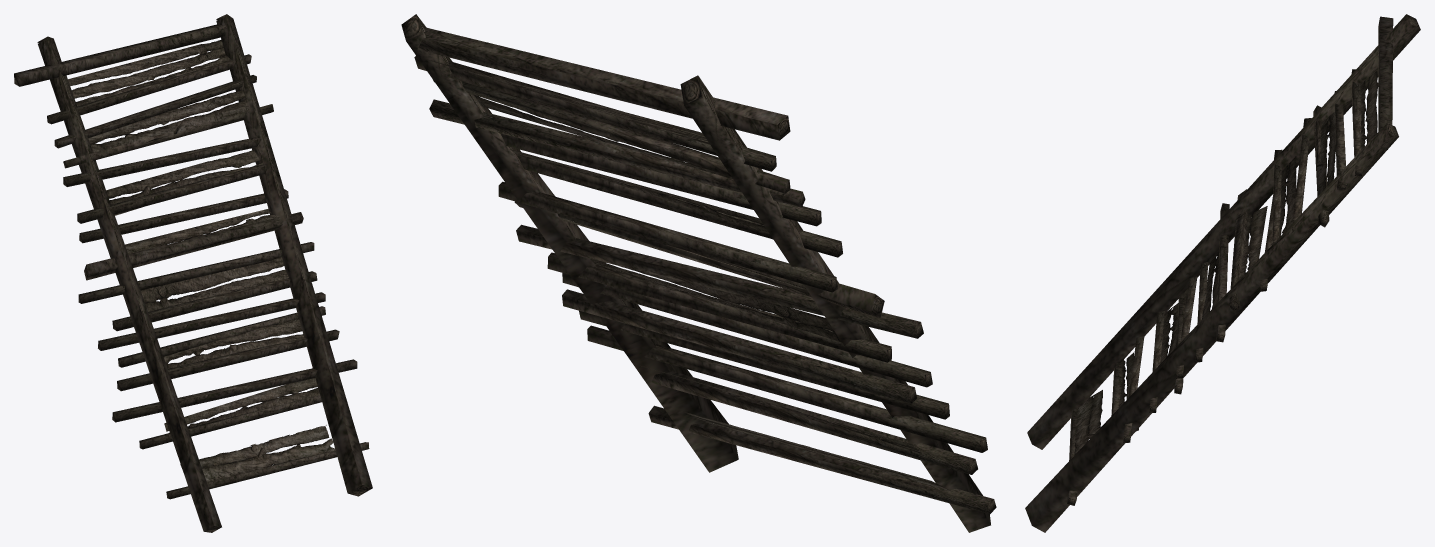
File: MEP_Stair_02.fbx
3 renders of one model, left to right at view 1: azimuth 30°, elevation 25°; view 2: azimuth 150°, elevation 25°; view 3: azimuth 270°, elevation 25°, orthographic. The views are drawn at different scales.
Visible parts, largest first — view 1: MEP_Stair_02; view 2: MEP_Stair_02; view 3: MEP_Stair_02.
Boxes of the visible parts, x1,y1,x2,y2 form: MEP_Stair_02: (14, 14, 372, 532); MEP_Stair_02: (401, 14, 996, 532); MEP_Stair_02: (1025, 14, 1420, 532).
Bounding box in the file's own units: 3.61 × 5.54 × 4.58.
